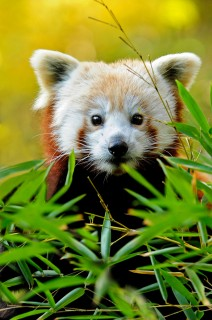red_panda: (16, 47, 203, 246)
